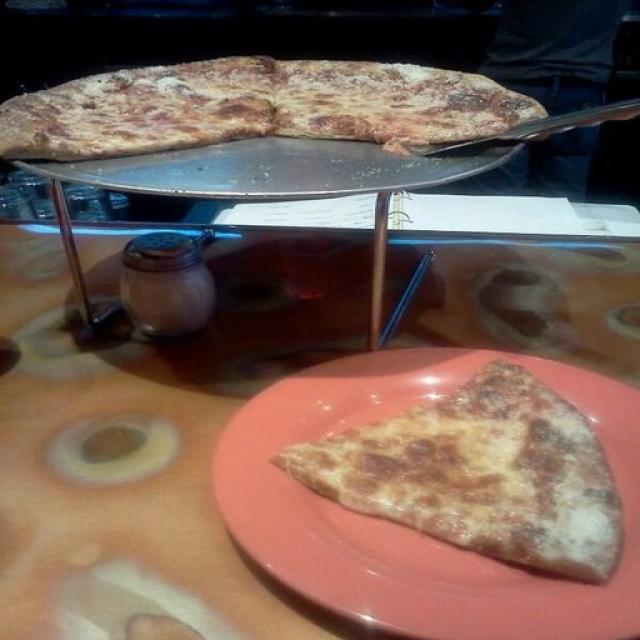Cheese: (376, 420, 538, 517), (298, 81, 411, 122)
Pizza: (270, 361, 625, 586), (0, 55, 547, 164)
